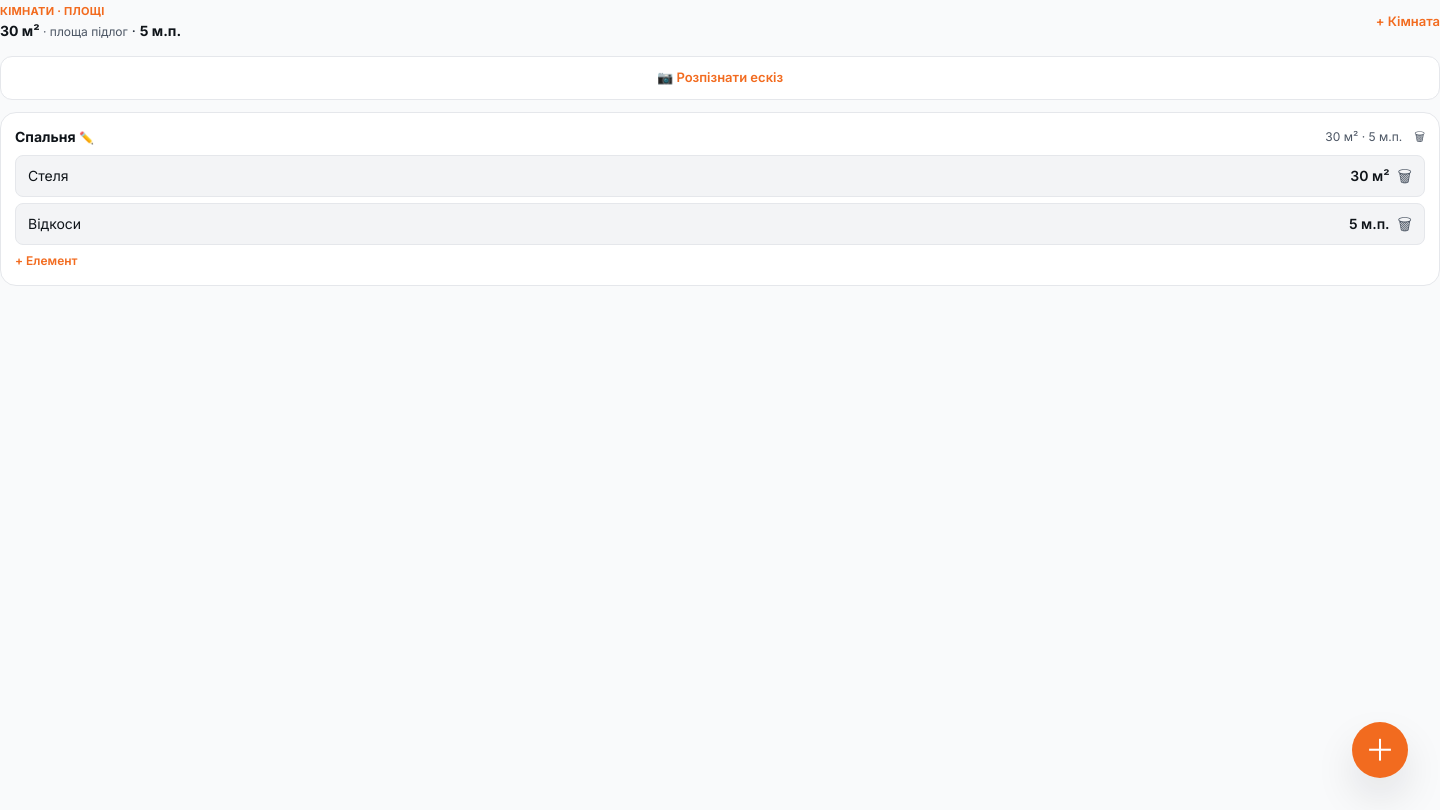
Scenario: MeasurementsSection — the «＋» (object-first) › is «+ Кімната»: it opens the new-room dialog
Click the button named "+ Кімната": (1380, 750) x1=1352 y1=722 x2=1408 y2=778
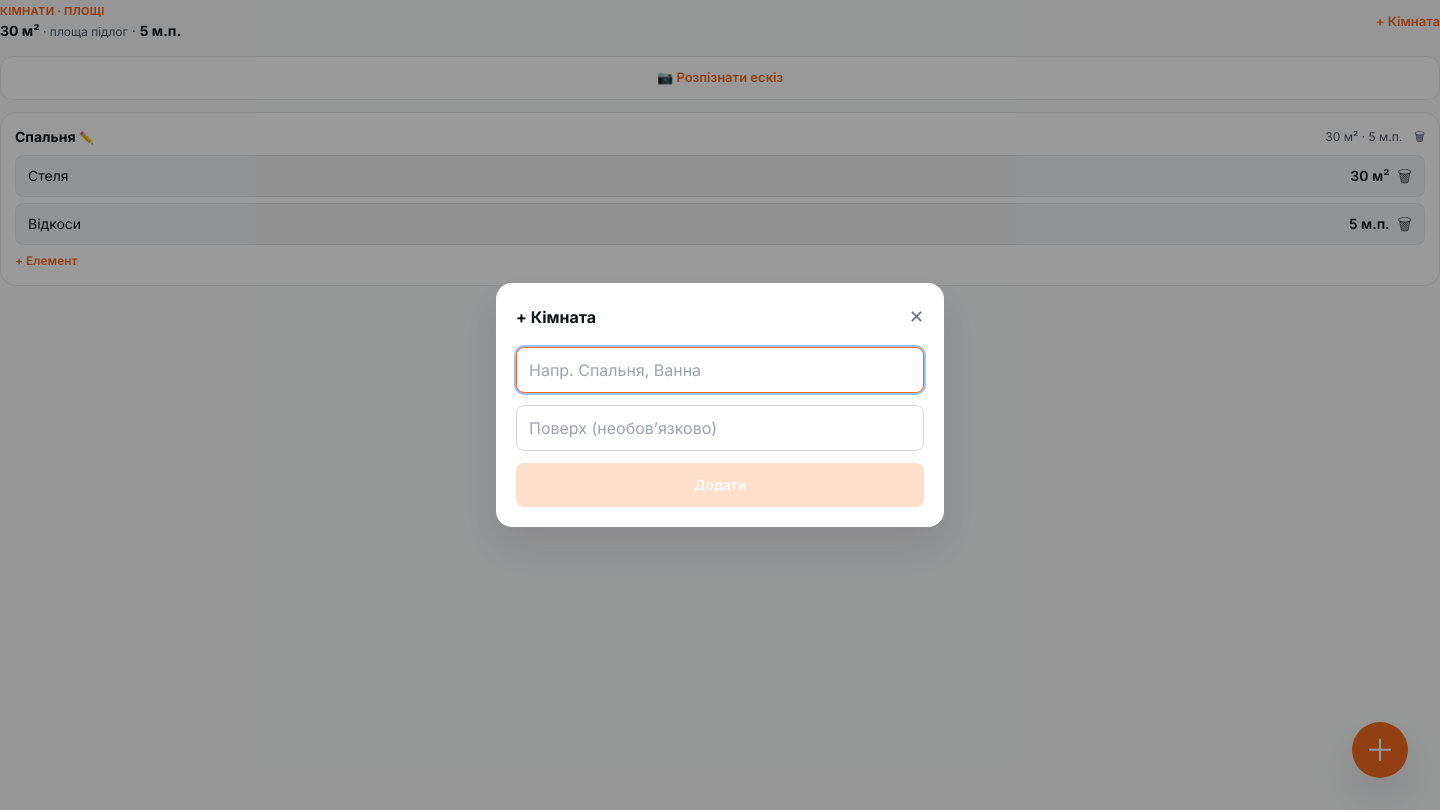
Now the dialog "+ Кімната" is shown
